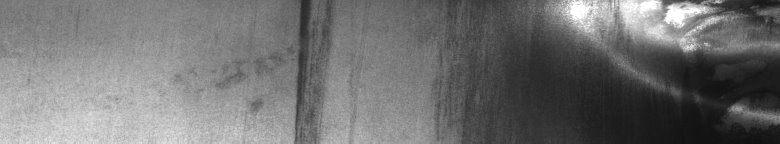ke: (618, 4, 776, 128)
